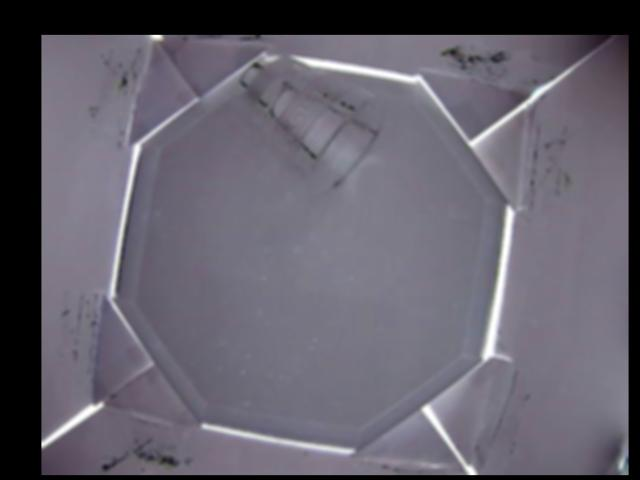Cup: (240, 53, 388, 190)
